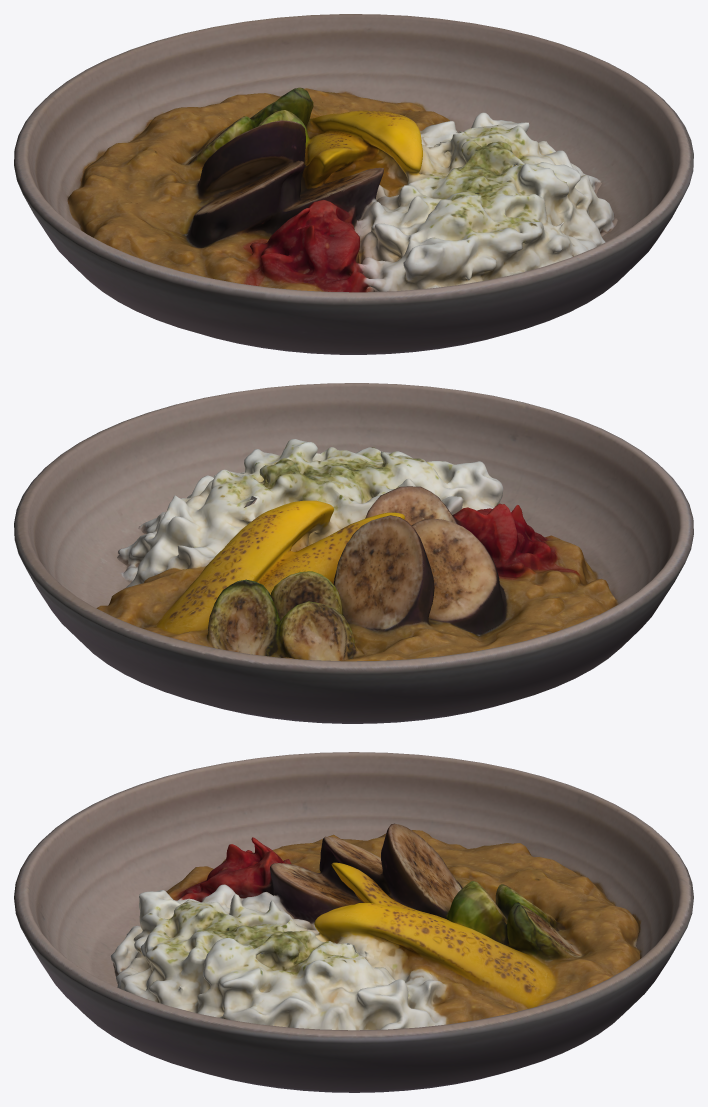
Rendered from Curry_Rice.FBX.
The picture shows the model from 3 angles, top to bottom: view 1: azimuth 30°, elevation 25°; view 2: azimuth 150°, elevation 25°; view 3: azimuth 270°, elevation 25°; orthographic projection.
Visible parts, largest first — view 1: Curry Rice; view 2: Curry Rice; view 3: Curry Rice.
Part boxes in pixels (x1,y1,x2,y2): Curry Rice: (14, 14, 693, 354); Curry Rice: (14, 383, 693, 723); Curry Rice: (14, 752, 693, 1092).
Bounding box in the file's own units: 4.33 × 0.9764 × 4.33.
1 material, 1 textured.
